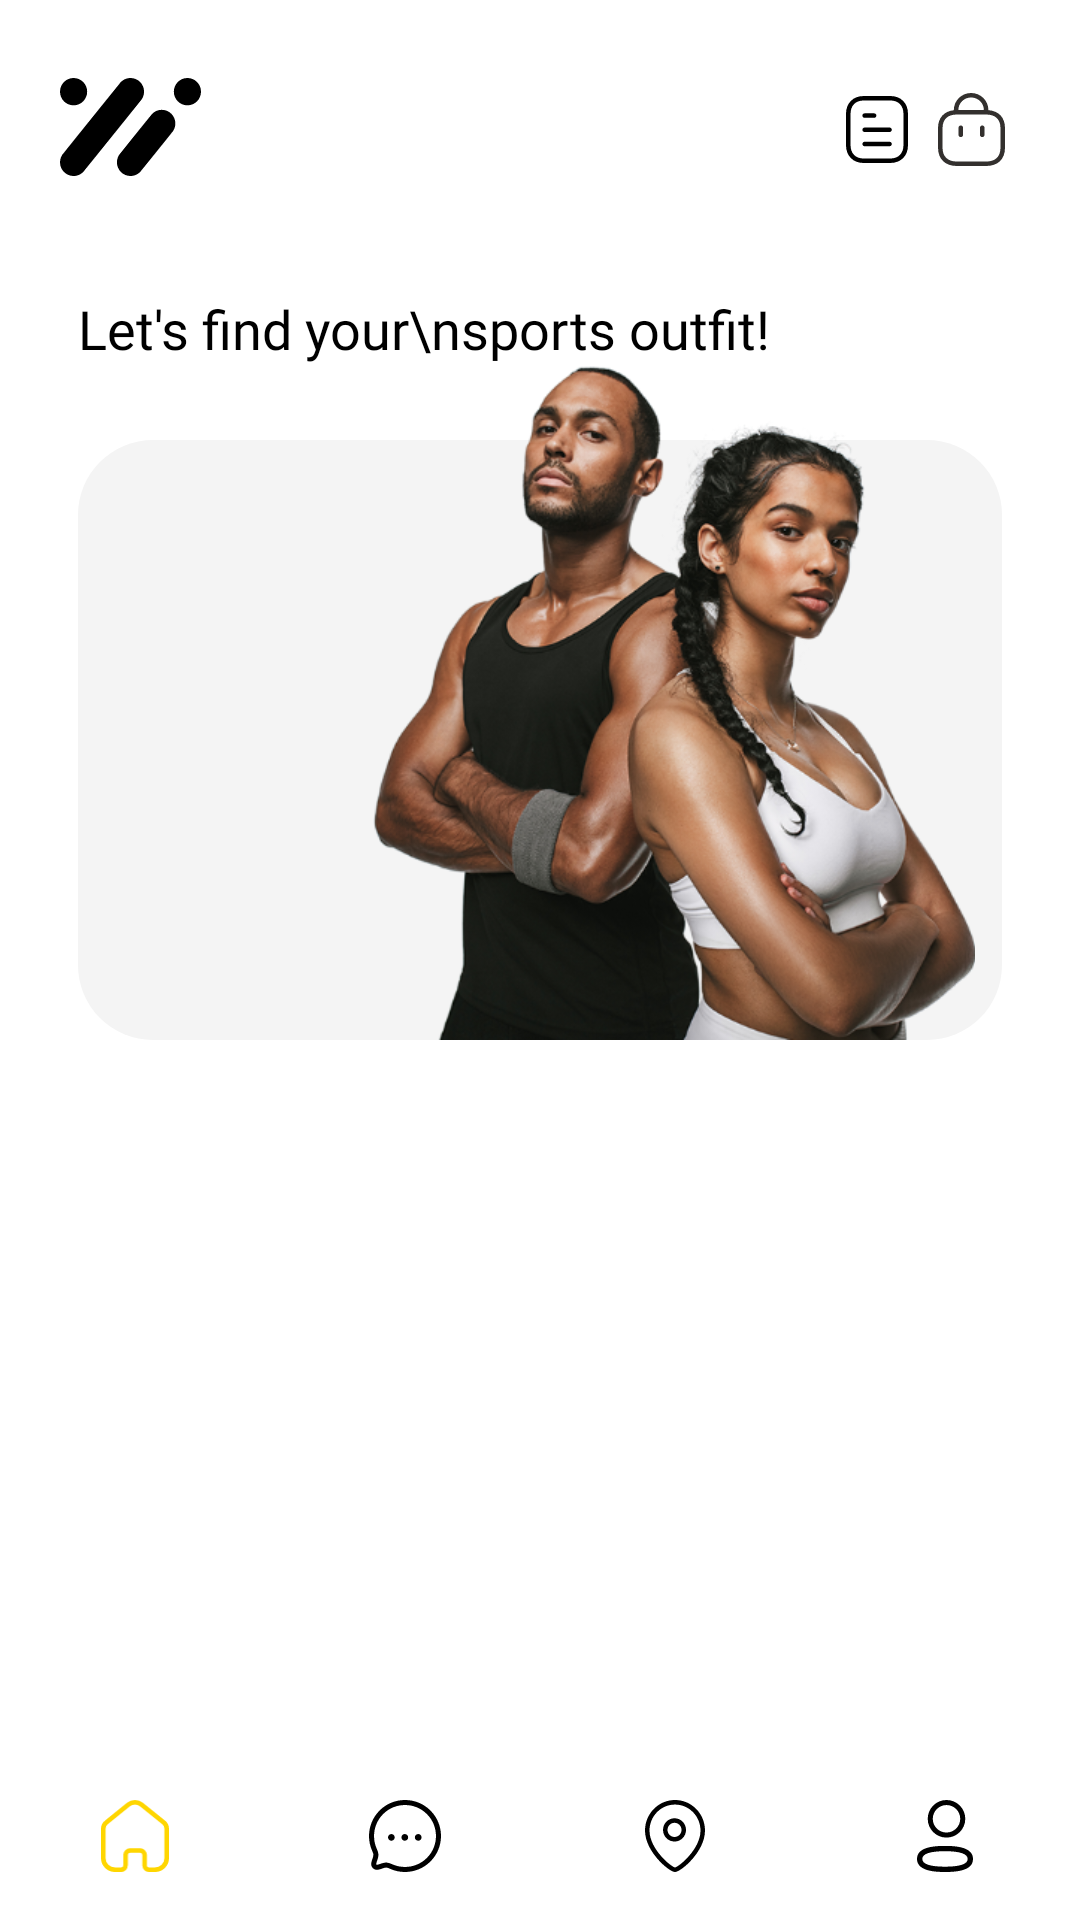

Where to tap for icons on this 1080*1920 app screen, as [x,y]:
bag: [971,129]
document info: [877,129]
